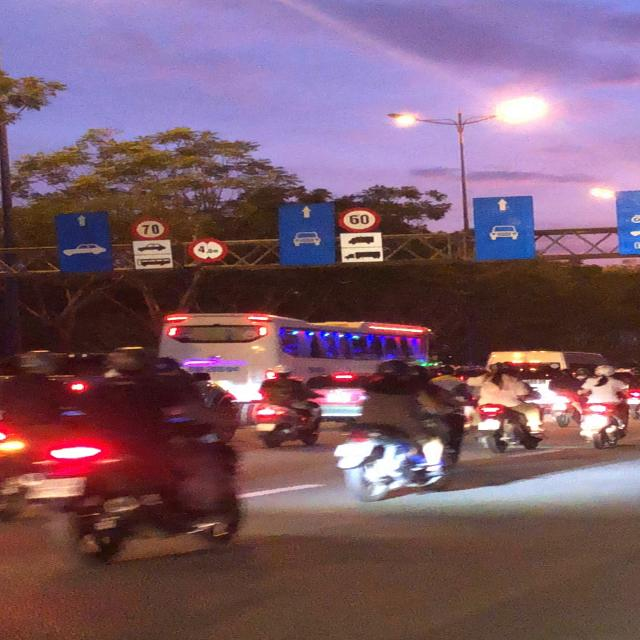Bien bao han che chieu cao: (184, 238, 228, 265)
Bien bao toc do toi da cho phep: (338, 205, 386, 233), (130, 216, 177, 242)
